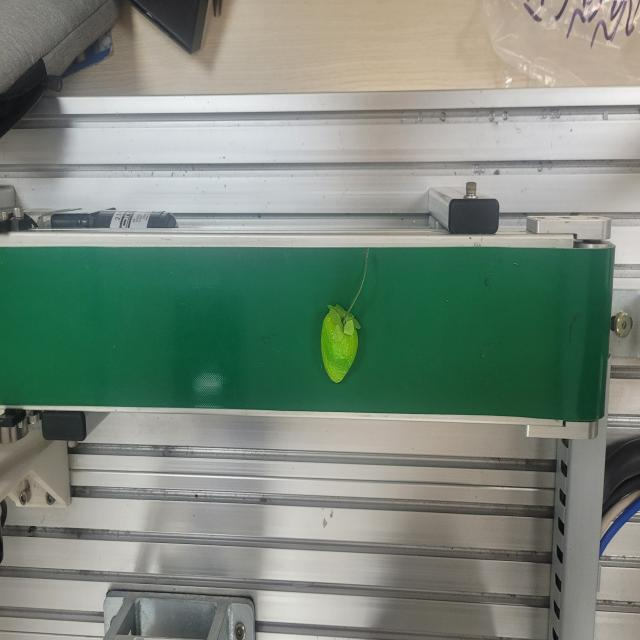Small Unripe Strawberry: (319, 300, 361, 384)
